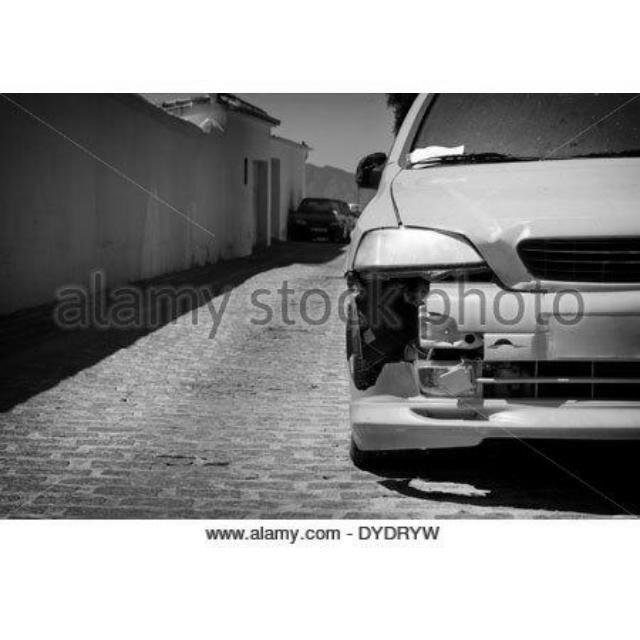front-bumper-dent: (314, 257, 639, 441)
